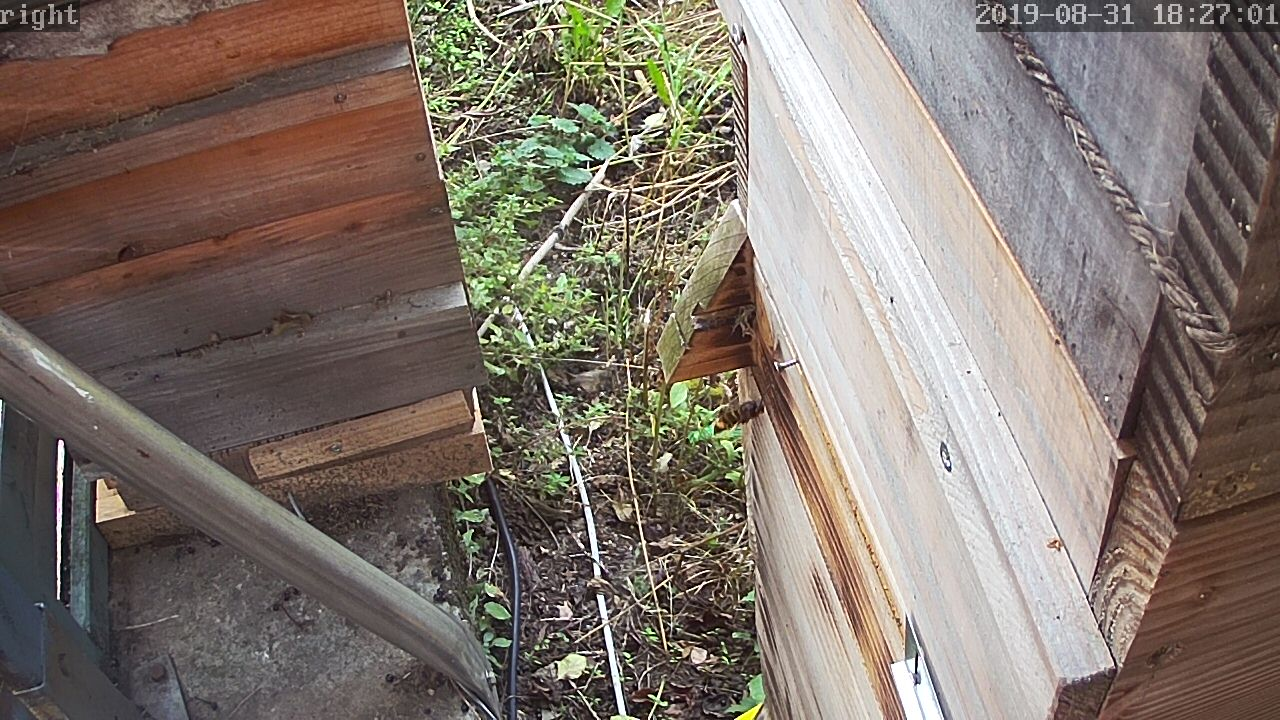hornet: (704, 397, 770, 434)
